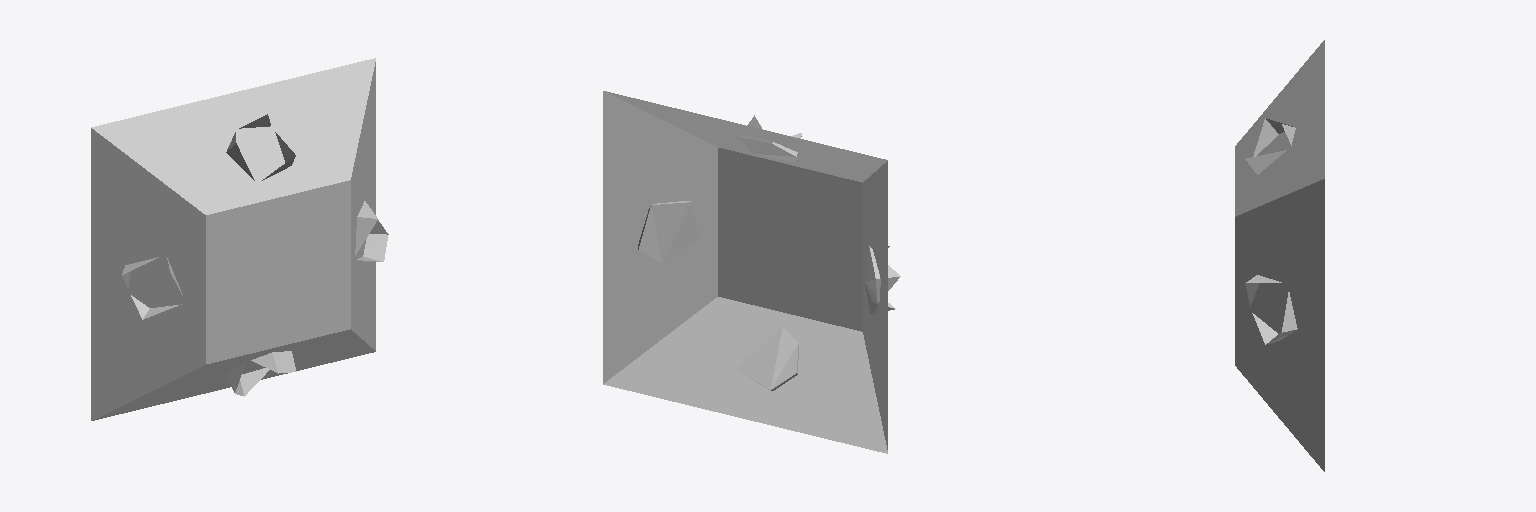
File: fuel.obj
3 views of the same model, side by side, from view 1: azimuth 30°, elevation 25°; view 2: azimuth 150°, elevation 25°; view 3: azimuth 270°, elevation 25° (orthographic).
Visible parts, largest first — view 1: Object.1; view 2: Object.1; view 3: Object.1.
Part boxes in pixels (left/top/right/bottom): Object.1: left=91, top=58, right=388, bottom=420; Object.1: left=603, top=91, right=900, bottom=453; Object.1: left=1235, top=40, right=1324, bottom=471.
Bounding box in the file's own units: 102 × 99.91 × 27.53.